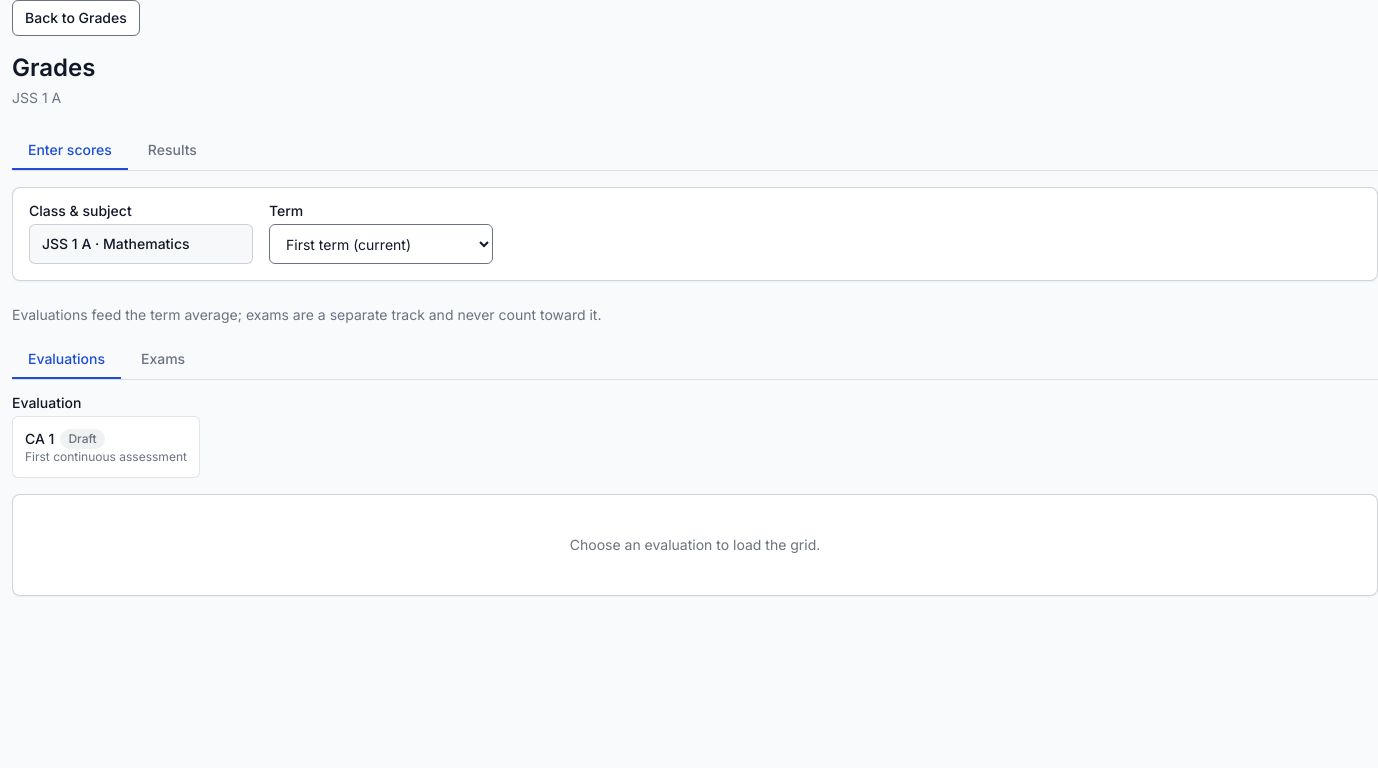
Test: ClassGradesPage — Results tab › switching from Results back to Enter scores via the tab bar re-shows the subject context
expect the button "CA 1 Draft First continuous assessment" is shown: met, box [12,416,200,478]
Click the tab "Results" at (172, 151), box [132,132,213,170]
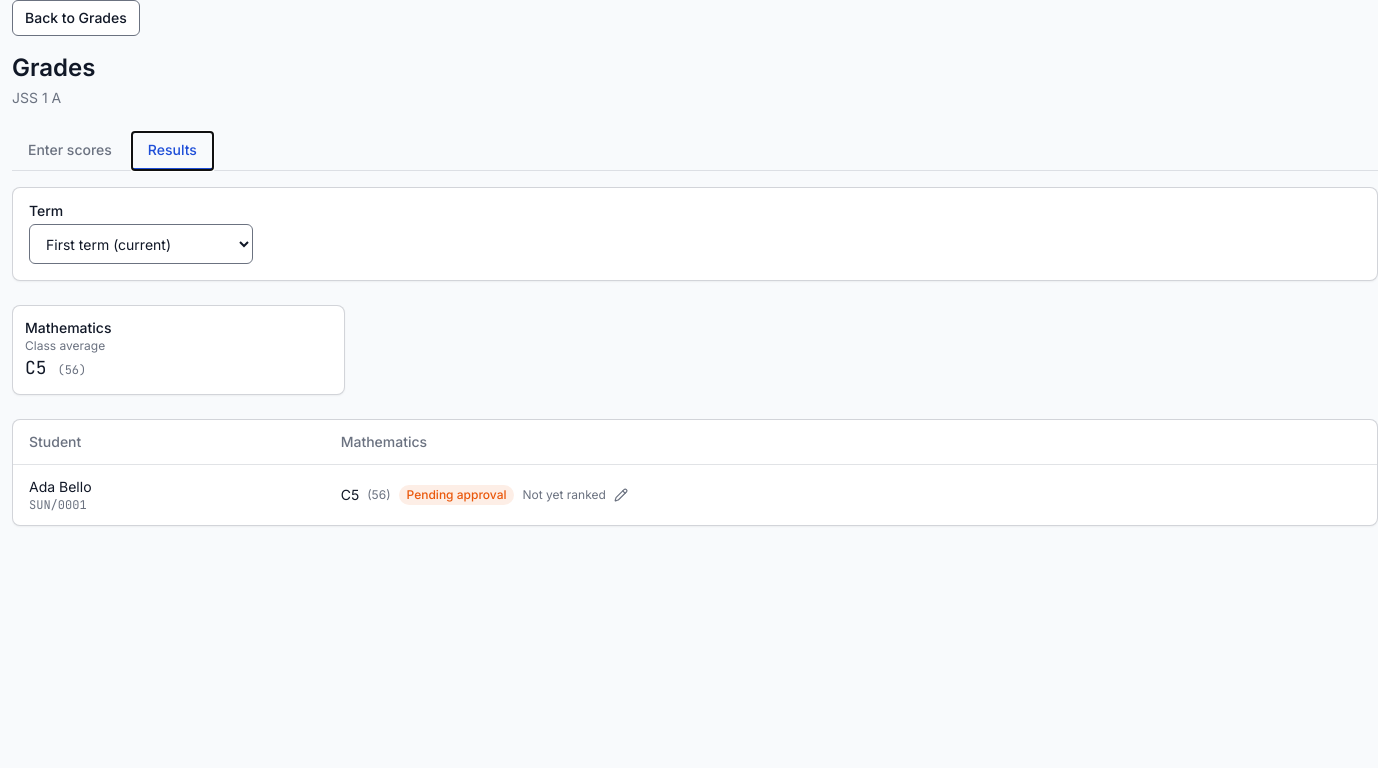
expect the text "JSS 1 A · Mathematics" is gone: met
Click the tab "Enter scores" at (70, 151), box [12,132,128,170]
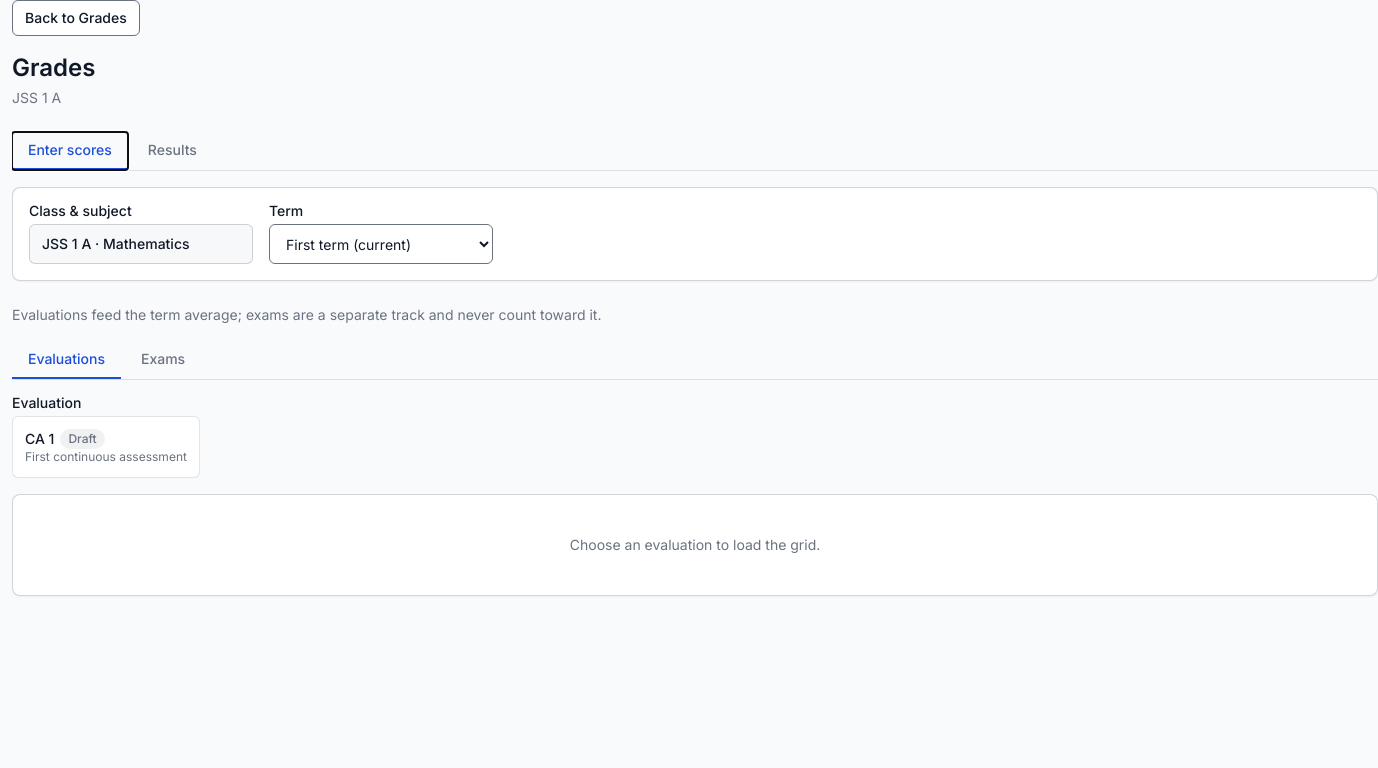
expect the text "JSS 1 A · Mathematics" is shown: met, box [29,224,253,264]
